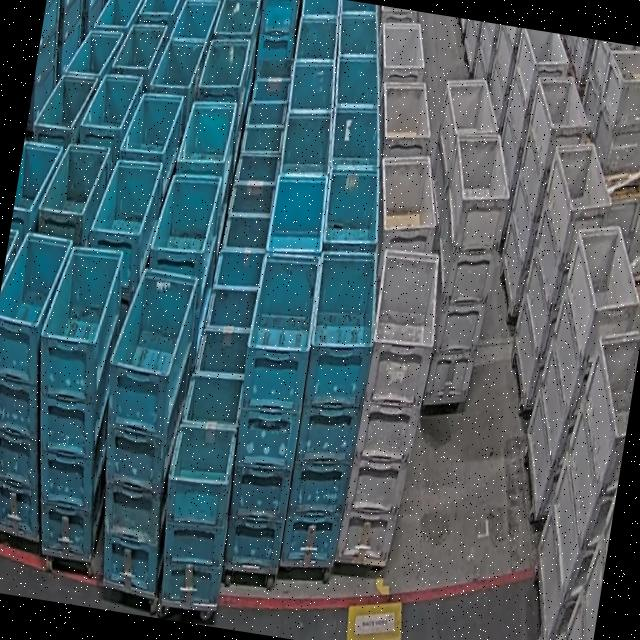4G: (336, 244, 449, 570), (412, 126, 519, 416)
B4: (5, 237, 144, 564), (76, 259, 208, 597), (212, 245, 328, 574), (272, 244, 387, 573), (0, 227, 85, 538)
B8: (149, 363, 255, 608)
